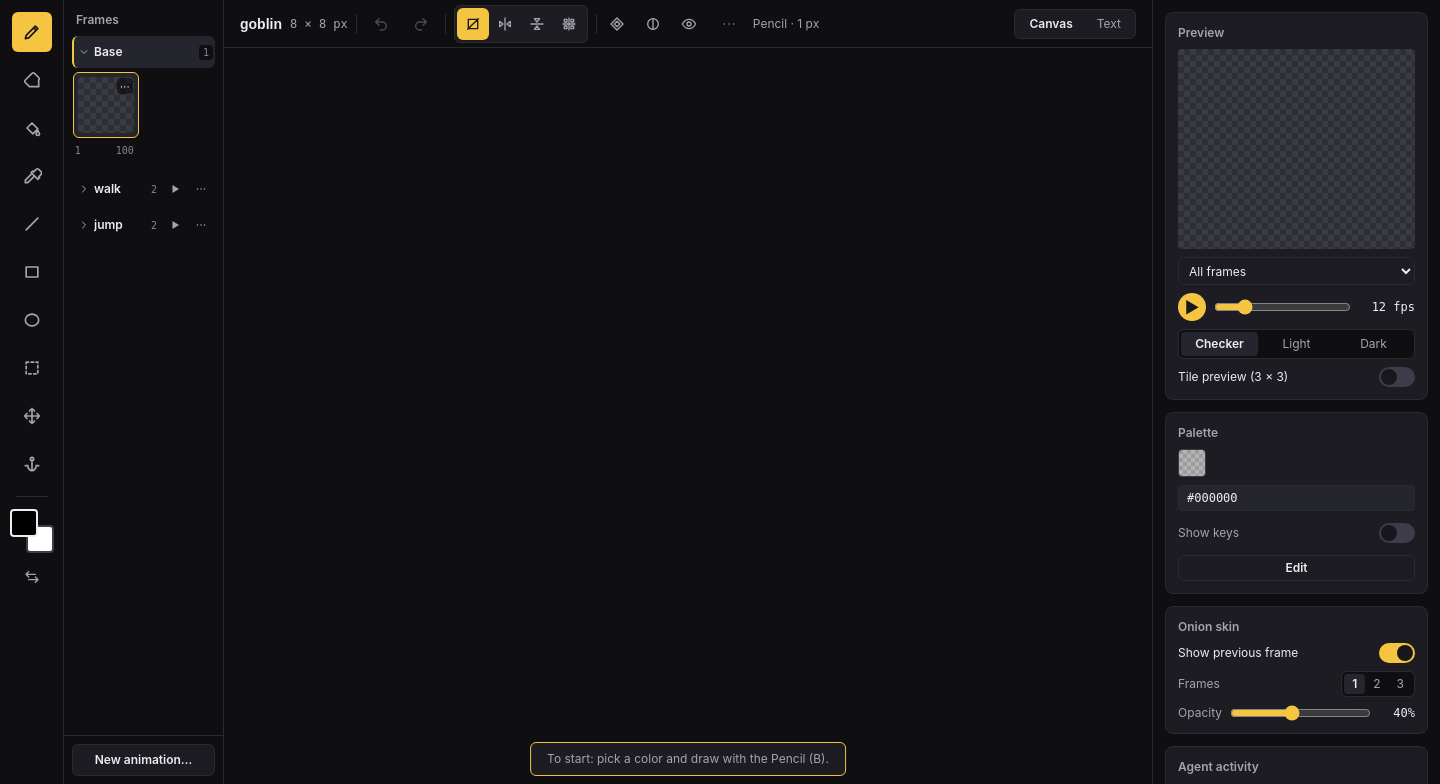
Test: The frames strip in groups › opens only the group that is clicked
Expected: the element "walk" is shown, top-left (72, 173), bottom-right (215, 205)
Step 1. Click the button with aria-label "Select walk" → (112, 189), box top-left (78, 177), bottom-right (145, 201)
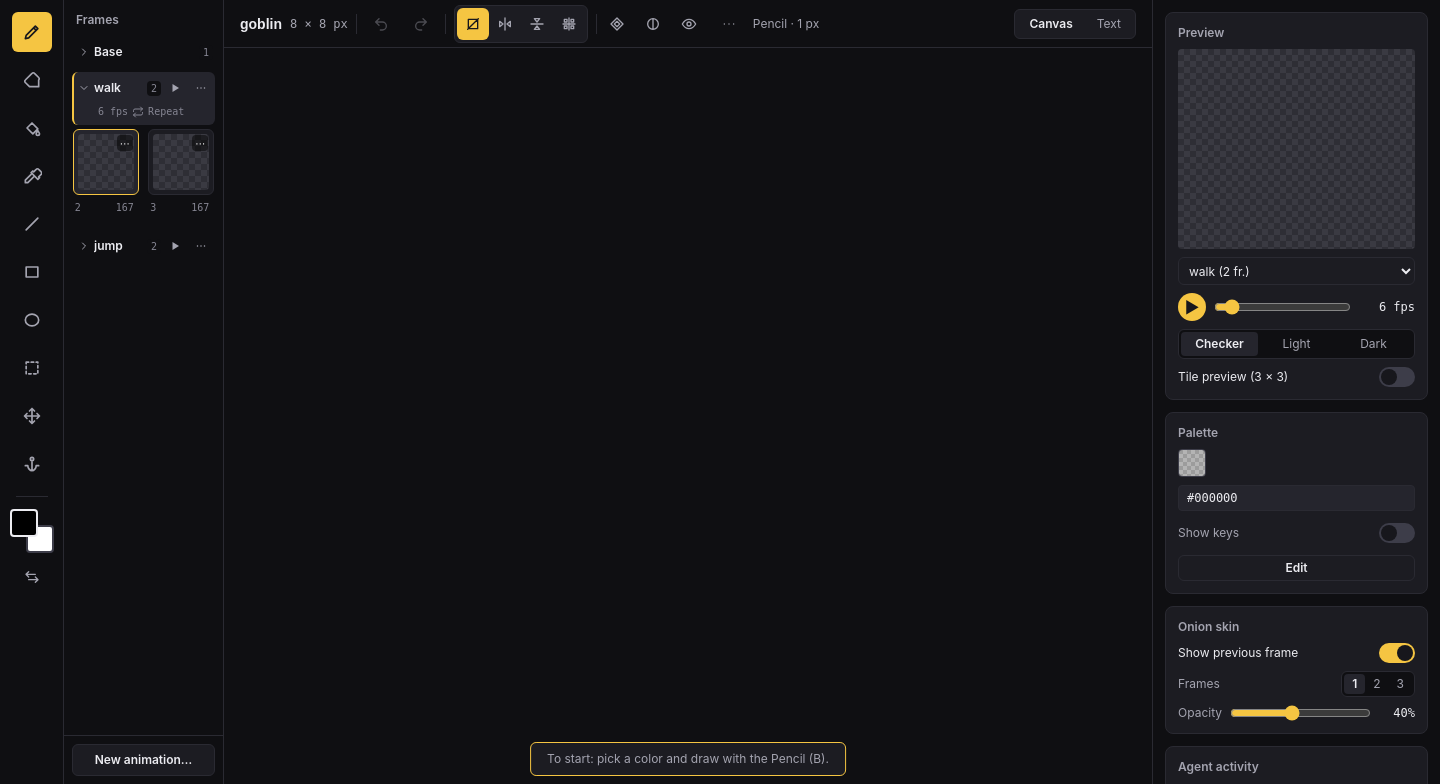
Expected: the dropdown named "Animation" shows "walk (2 fr.)", top-left (1178, 257), bottom-right (1415, 285)
Step 2. Click the button with aria-label "Select jump" → (112, 246), box top-left (78, 234), bottom-right (145, 258)
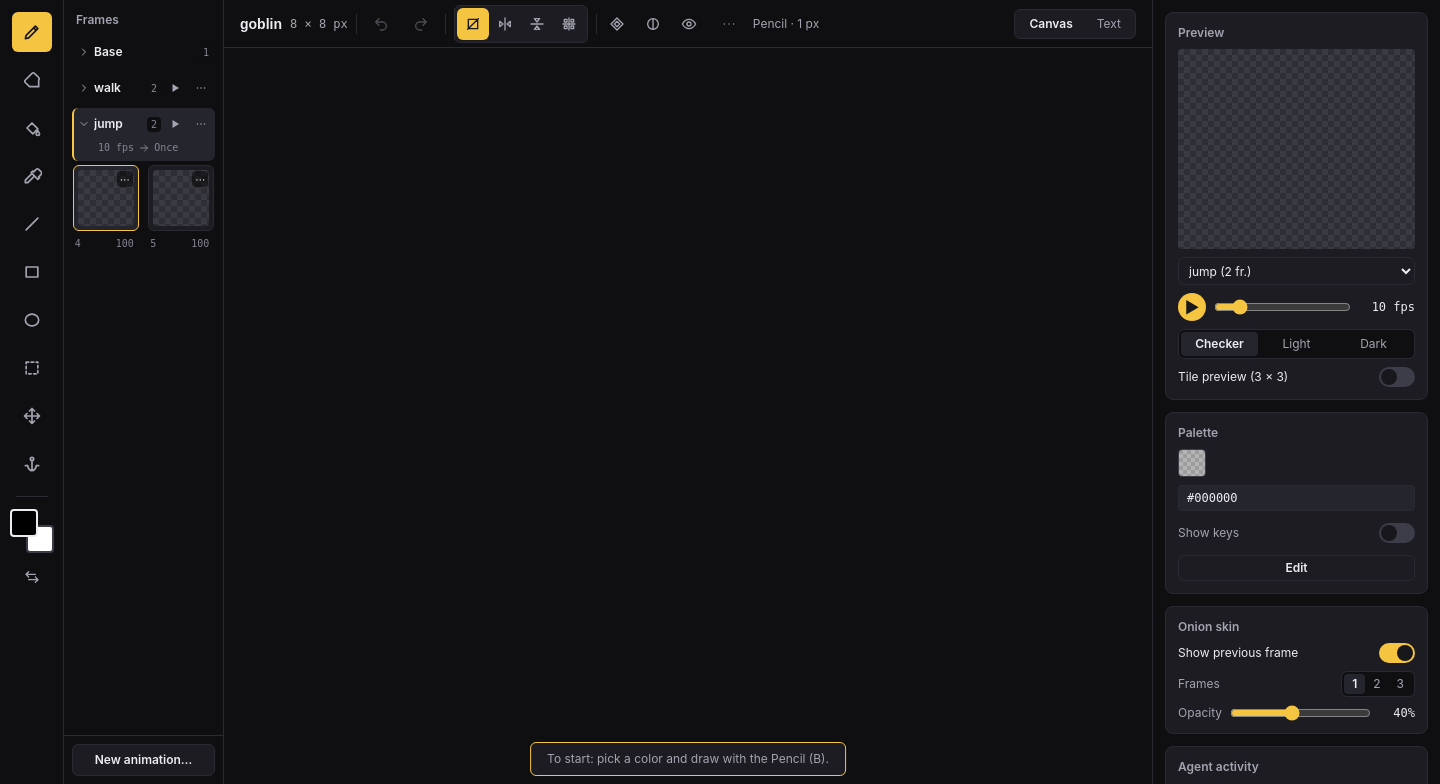
Expected: the button with aria-label "Select jump" is expanded, top-left (78, 112), bottom-right (145, 136)
